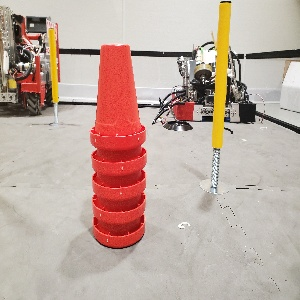Red_5: (84, 32, 149, 255)
